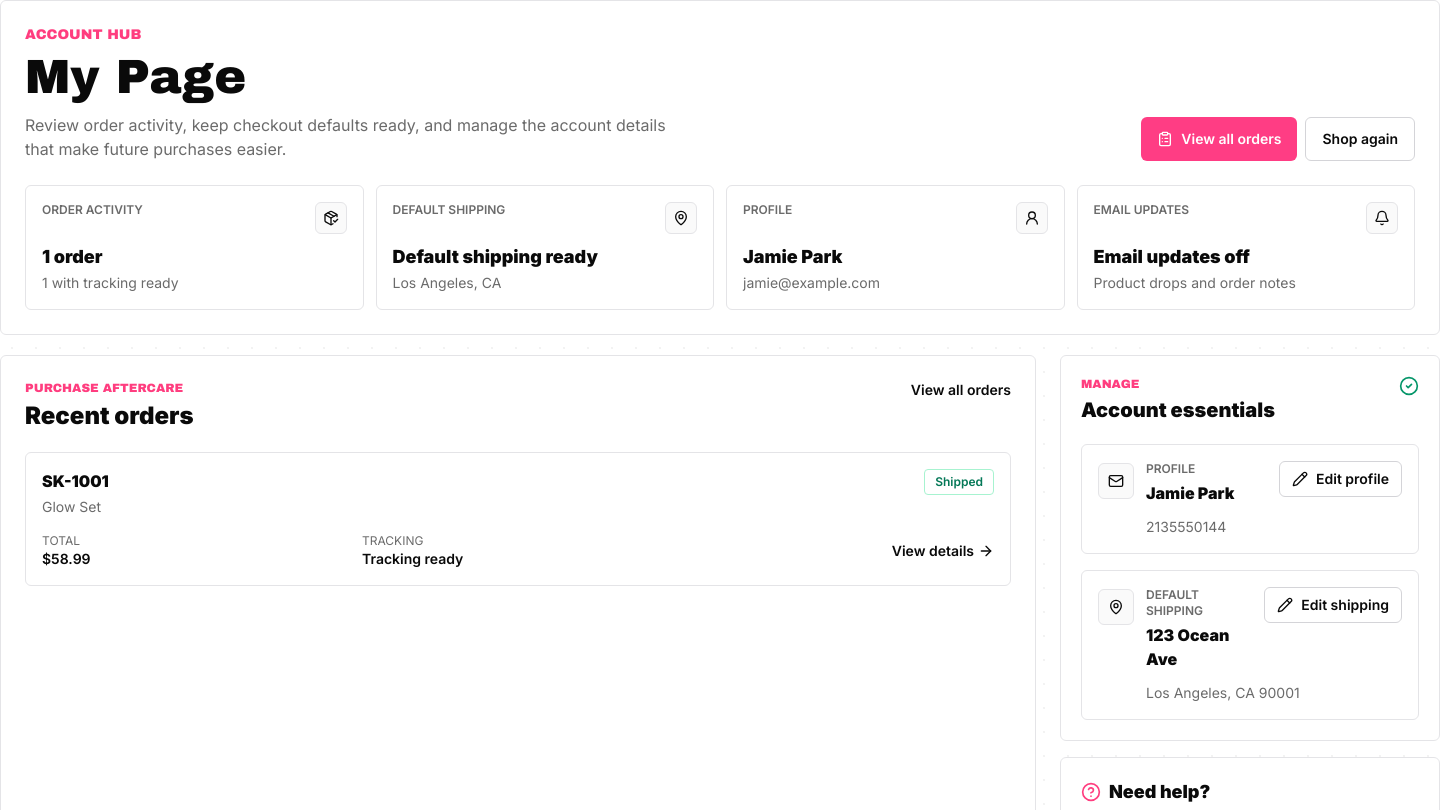
Test: AccountDashboard › posts updates and closes the edit panel after a successful save
Click the button "Edit profile": (1340, 478) left=1279, top=460, right=1402, bottom=496
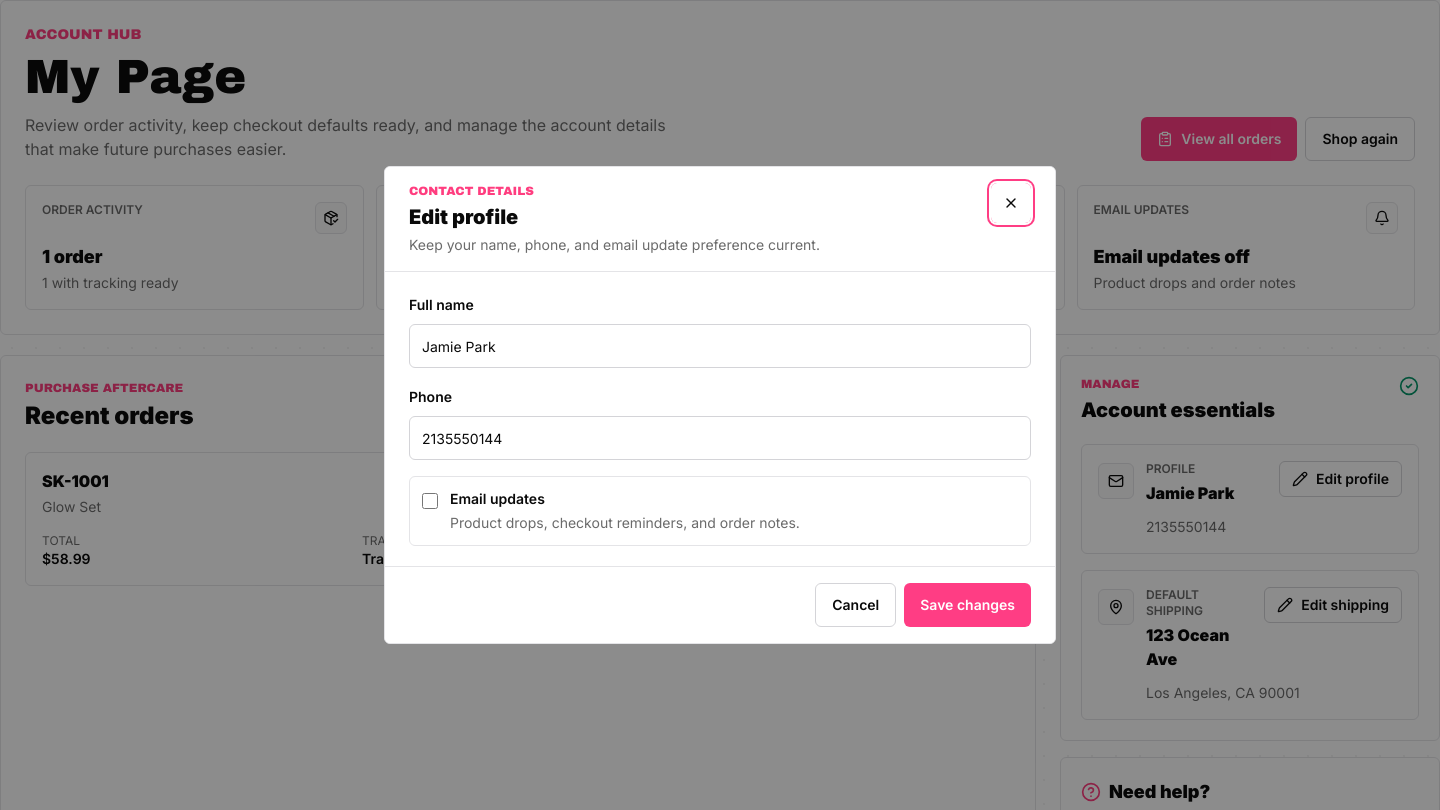
Replace the text in the field labelled "Phone" with "3105550199": (720, 438) left=409, top=416, right=1031, bottom=460
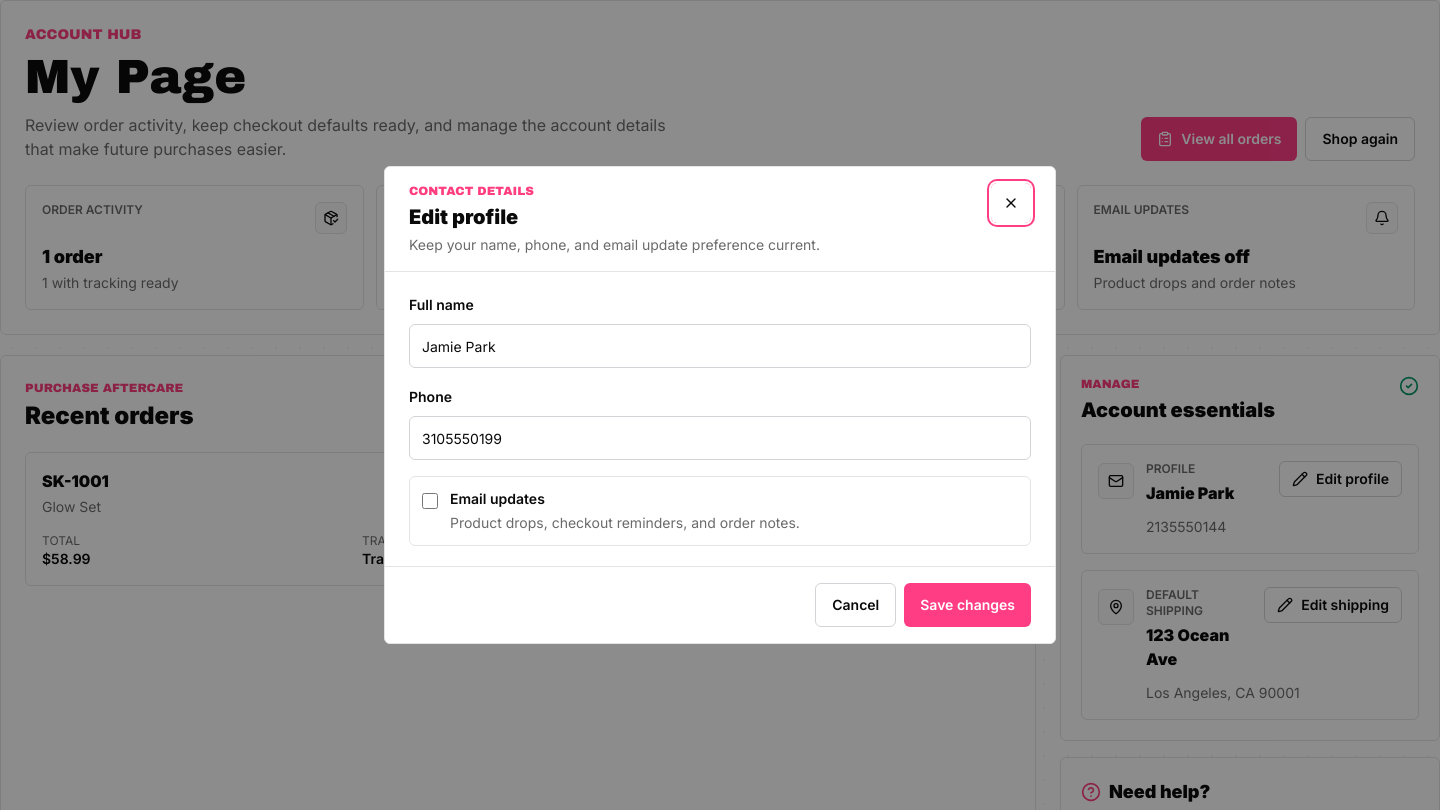
Click the checkbox labelled "Email updates": (430, 501) left=422, top=493, right=438, bottom=509
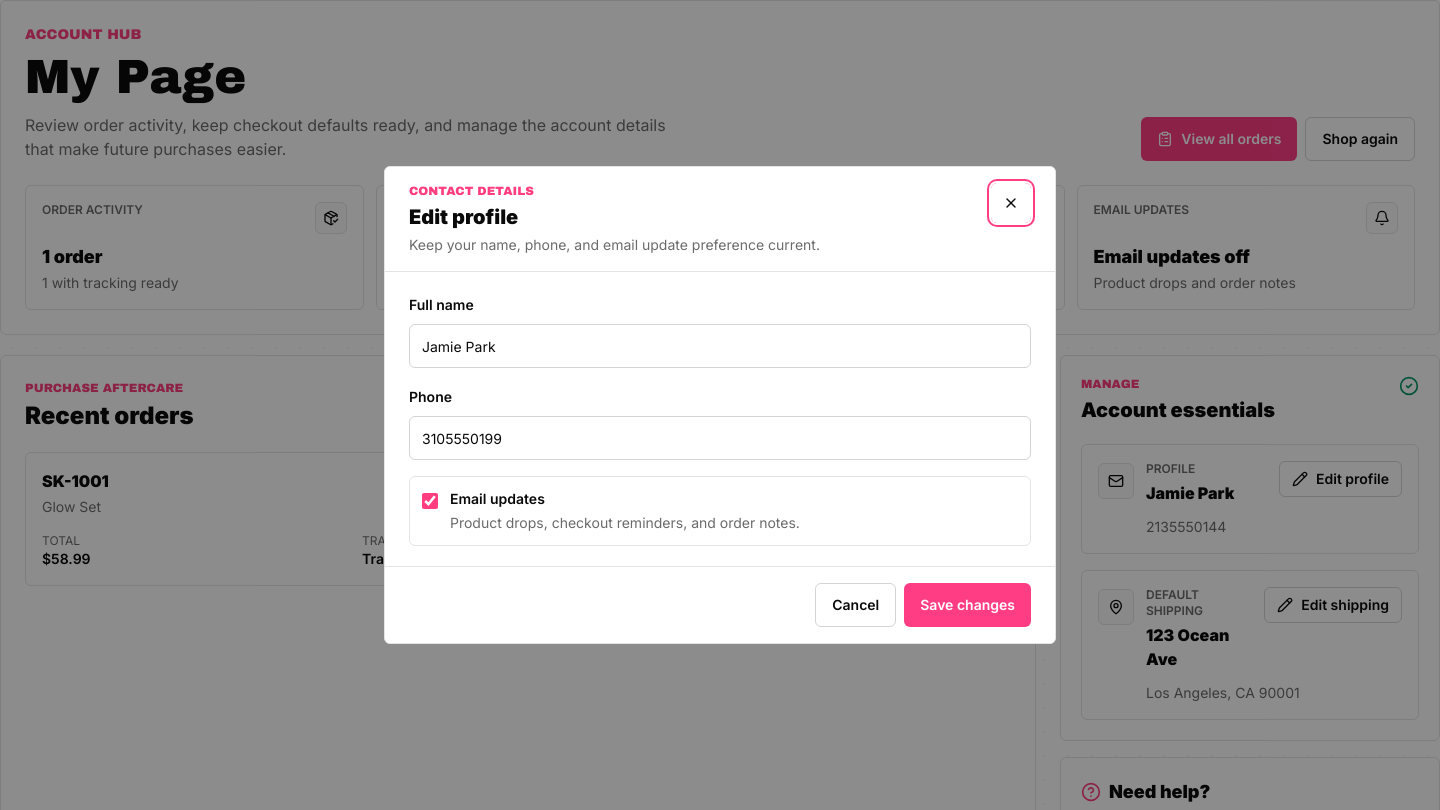
Click the button "Save changes": (968, 605) left=904, top=583, right=1031, bottom=627
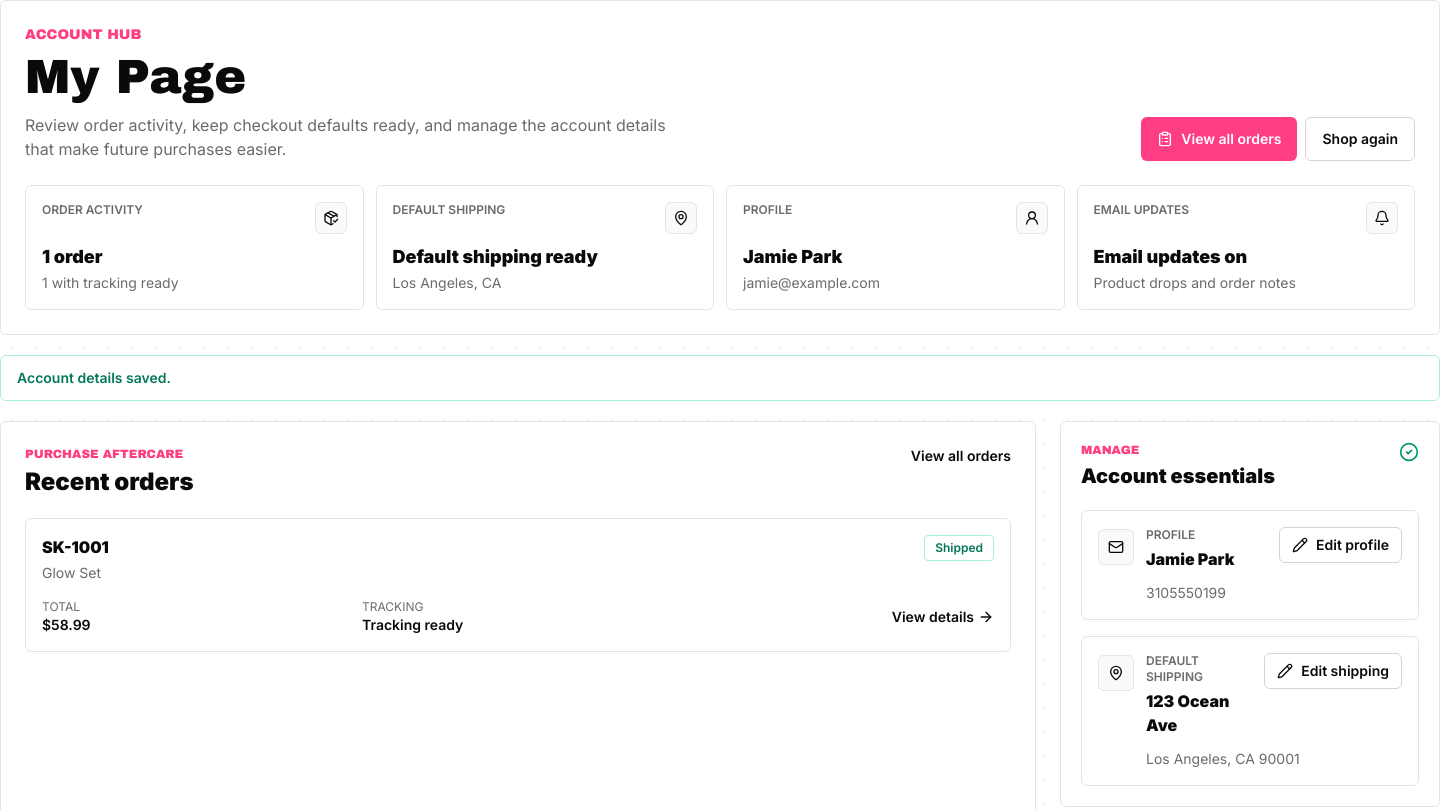
Expected: the text "phone" is gone
Expected: the message reads "Account details saved.", left=17, top=368, right=171, bottom=386
